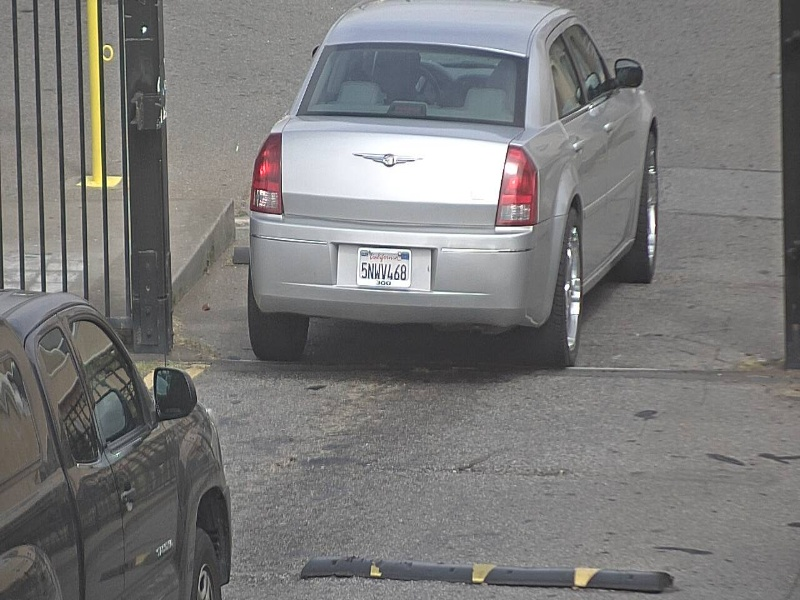licence plate: (354, 246, 413, 289)
